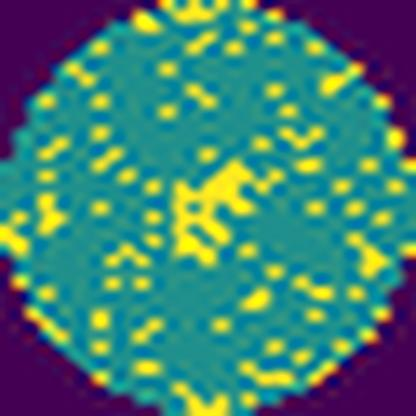Center: (167, 155, 263, 269)
